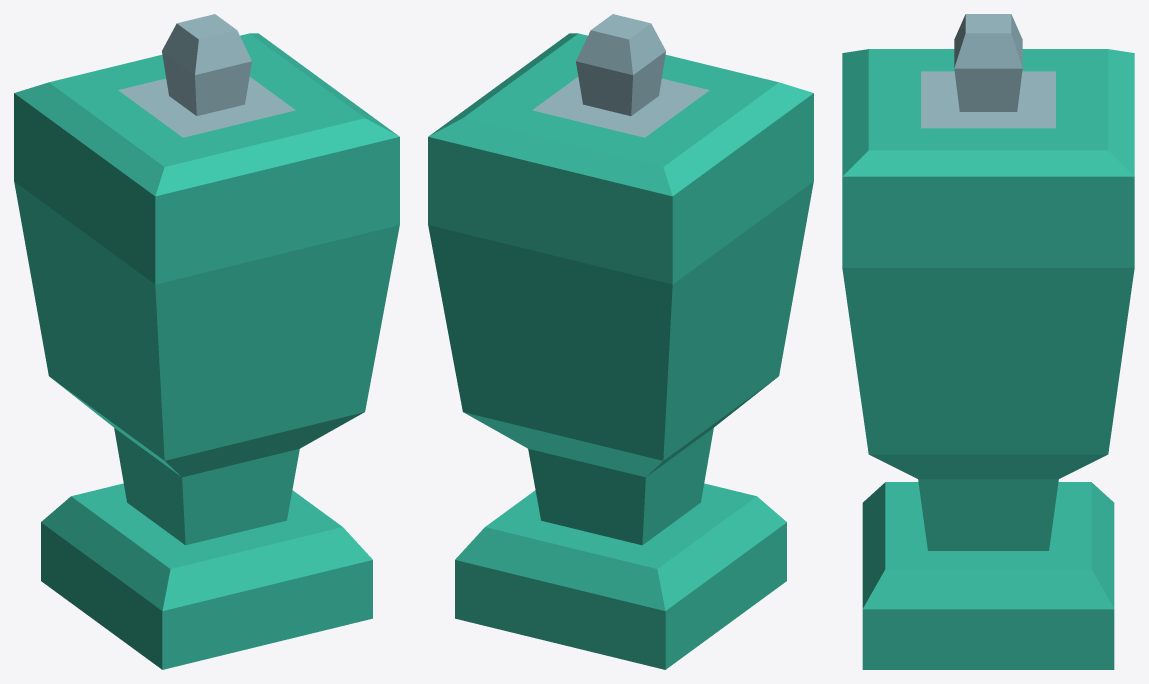
The model's file is urn.fbx.
3 renders of one model, left to right at view 1: azimuth 30°, elevation 25°; view 2: azimuth 150°, elevation 25°; view 3: azimuth 270°, elevation 25°, orthographic. The views are drawn at different scales.
Visible parts, largest first — view 1: urn, lid; view 2: urn, lid; view 3: urn, lid.
Part boxes in pixels (x1,y1,x2,y2): urn: (14, 122, 399, 669); lid: (14, 14, 399, 225); urn: (428, 122, 813, 669); lid: (428, 14, 813, 225); urn: (842, 207, 1134, 669); lid: (842, 14, 1134, 206).
Size of the model in its own units: 1.74 by 3.9 by 1.74.
